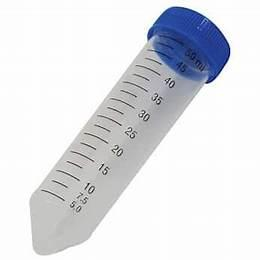Test tube: (20, 11, 247, 244)
